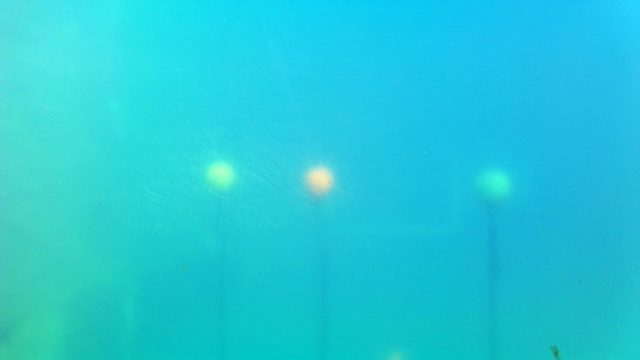buoy_red: (302, 163, 333, 200)
